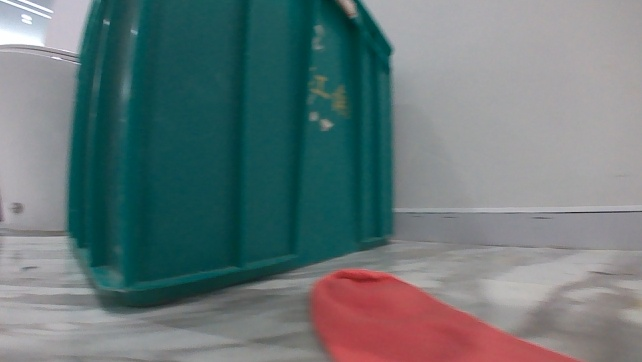socks: (305, 266, 587, 361)
toilet: (0, 40, 81, 235)
